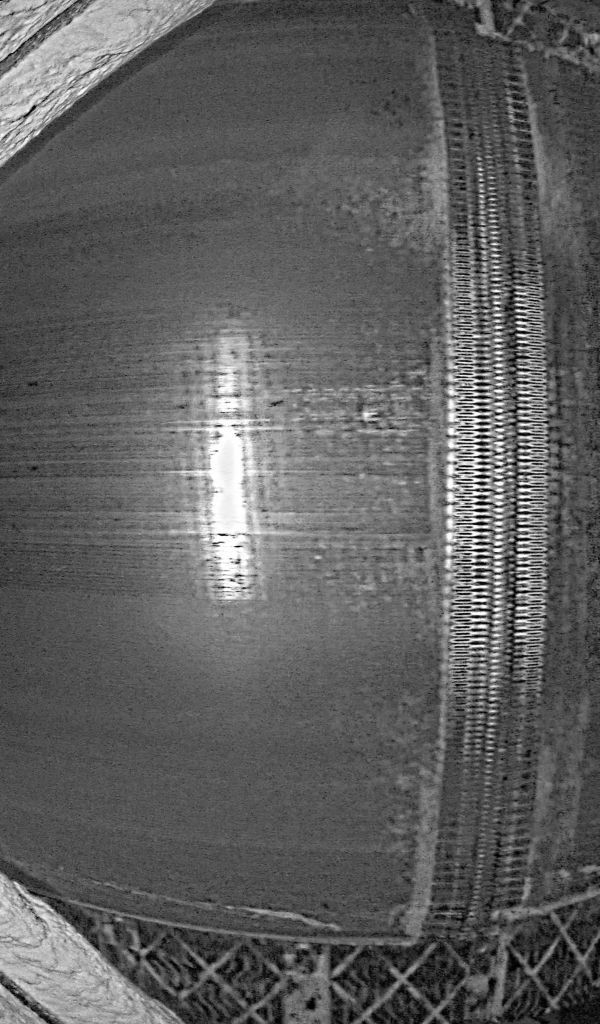splice: (411, 24, 556, 945)
